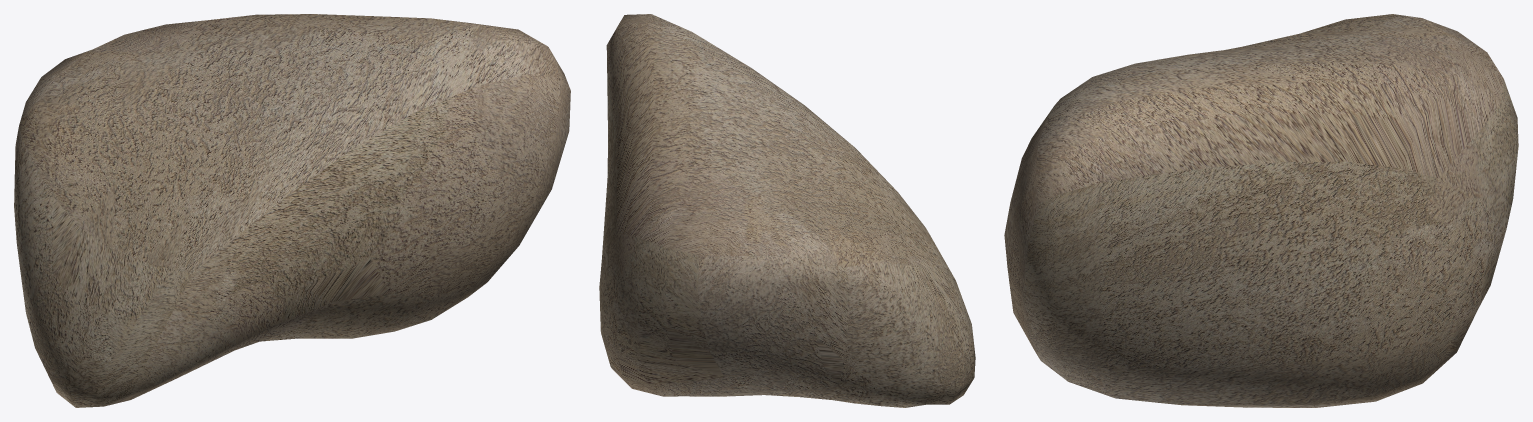
The model's file is Rock2.fbx.
3 renders of one model, left to right at view 1: azimuth 30°, elevation 25°; view 2: azimuth 150°, elevation 25°; view 3: azimuth 270°, elevation 25°, orthographic. The views are drawn at different scales.
Visible parts, largest first — view 1: Rock2; view 2: Rock2; view 3: Rock2.
Boxes of the visible parts, x1,y1,x2,y2 form: Rock2: [14, 14, 570, 407]; Rock2: [599, 14, 975, 407]; Rock2: [1004, 14, 1518, 407].
Bounding box in the file's own units: 447 × 292 × 367.
